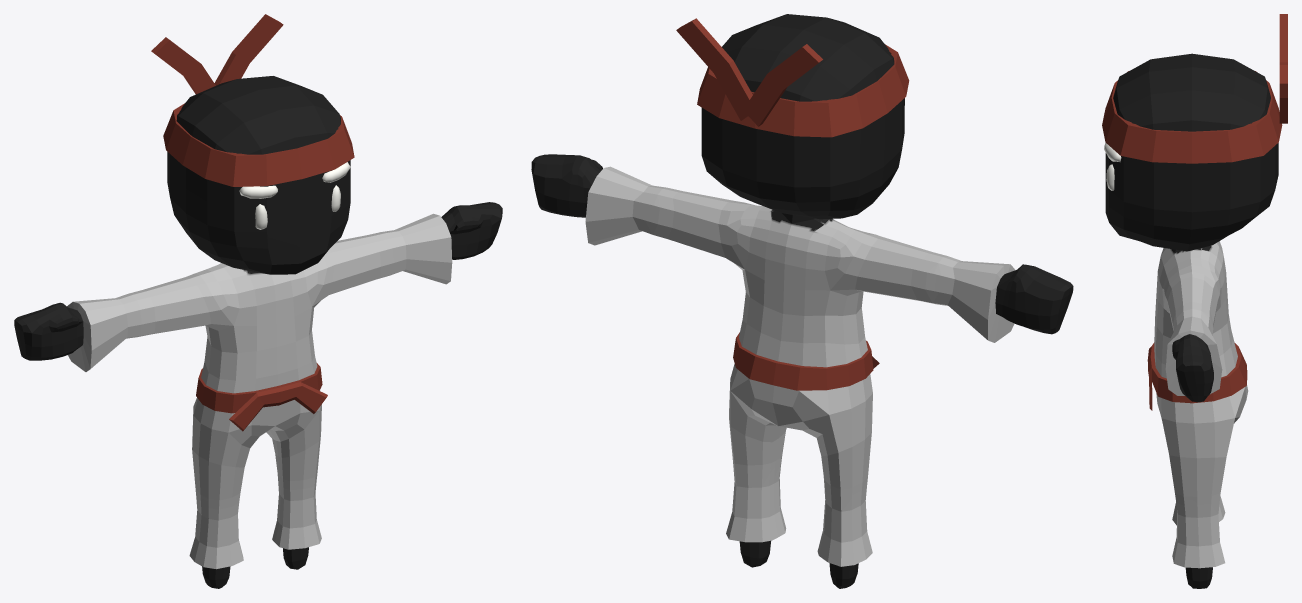
File: Kimono_Male.fbx
3 views of the same model, side by side, from view 1: azimuth 30°, elevation 25°; view 2: azimuth 150°, elevation 25°; view 3: azimuth 270°, elevation 25° (orthographic). The views are drawn at different scales.
Visible parts, largest first — view 1: Body; view 2: Body; view 3: Body.
Part boxes in pixels (x1=…): Body: x1=14, y1=14, x2=502, y2=588; Body: x1=531, y1=14, x2=1073, y2=588; Body: x1=1102, y1=14, x2=1287, y2=588.
Bounding box in the file's own units: 324 × 334 × 106.
Materials: 1 (1 with a texture image).
